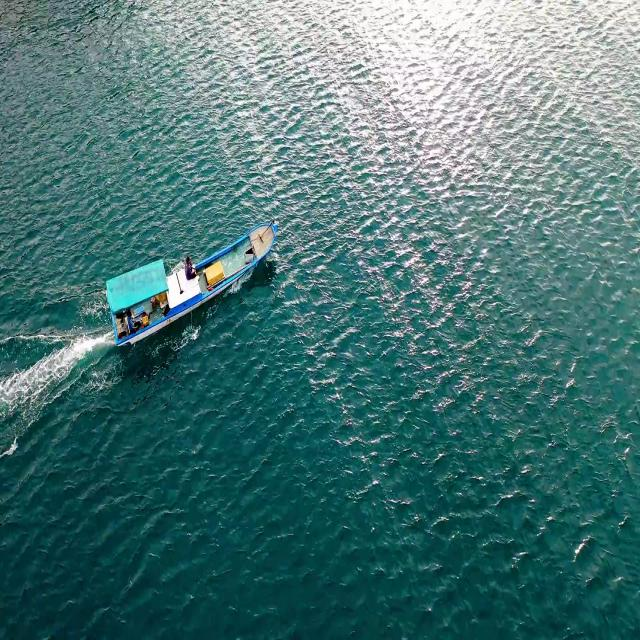ship: (109, 218, 278, 362)
